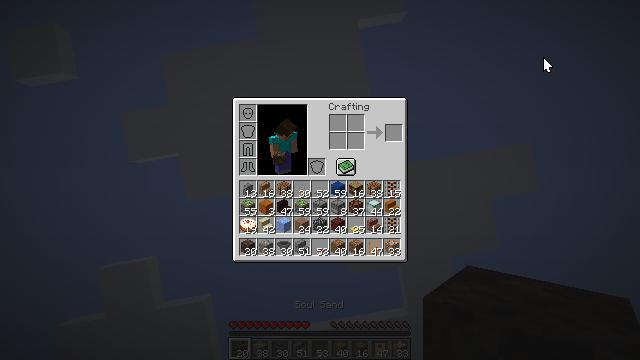cursor: (543, 57, 553, 73)
